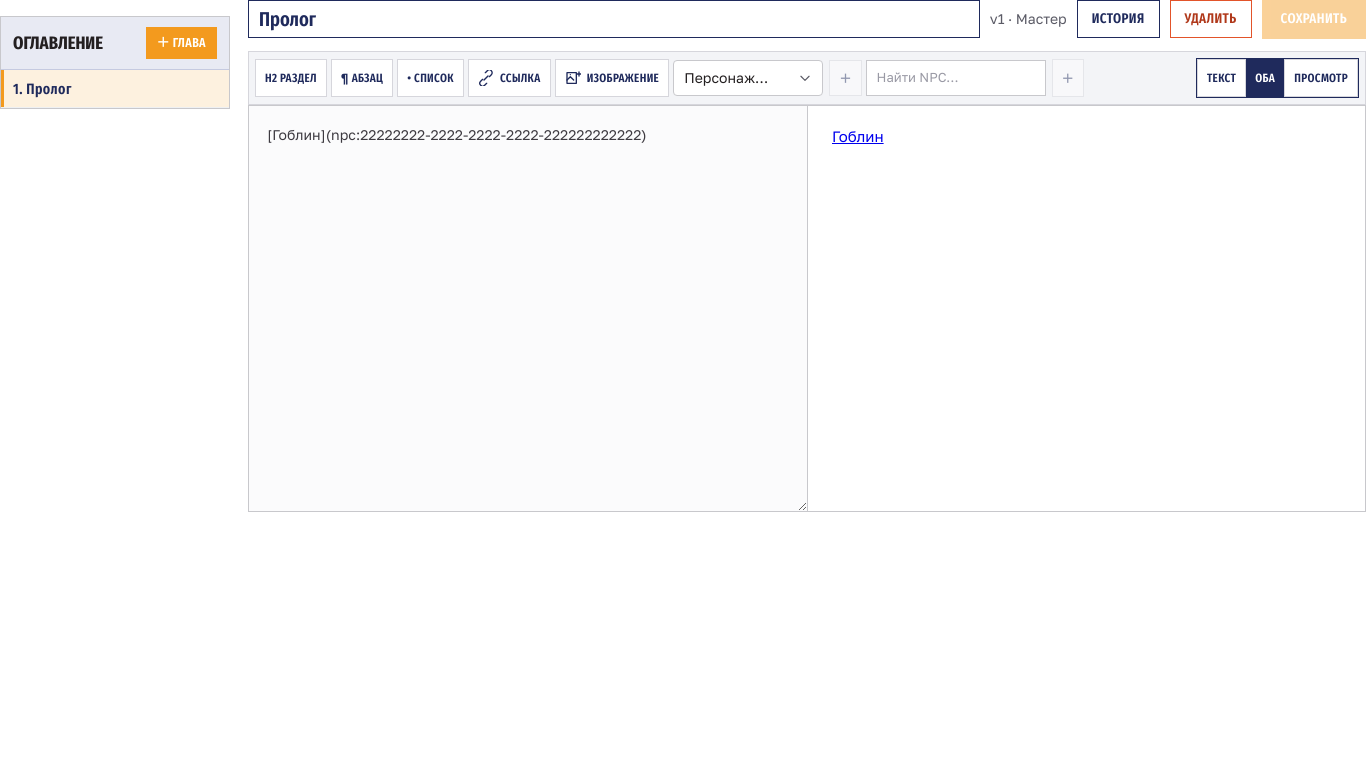
Scenario: CampaignChronicleTab — links › открывает ссылку NPC в модальной карточке, не меняя страницу
Click the link "Гоблин": (858, 136) [832, 127, 884, 145]
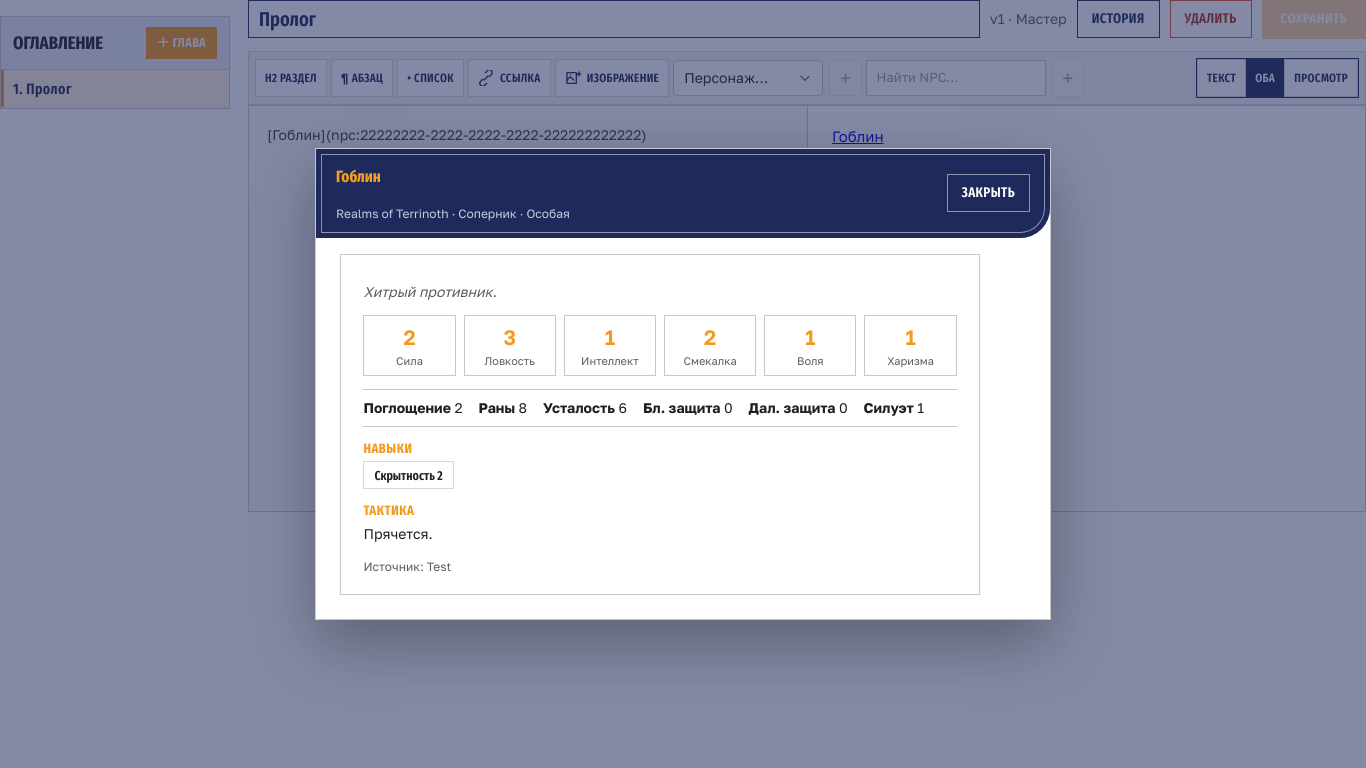
Expected: the text "Хитрый противник." is shown, [363, 283, 497, 300]
